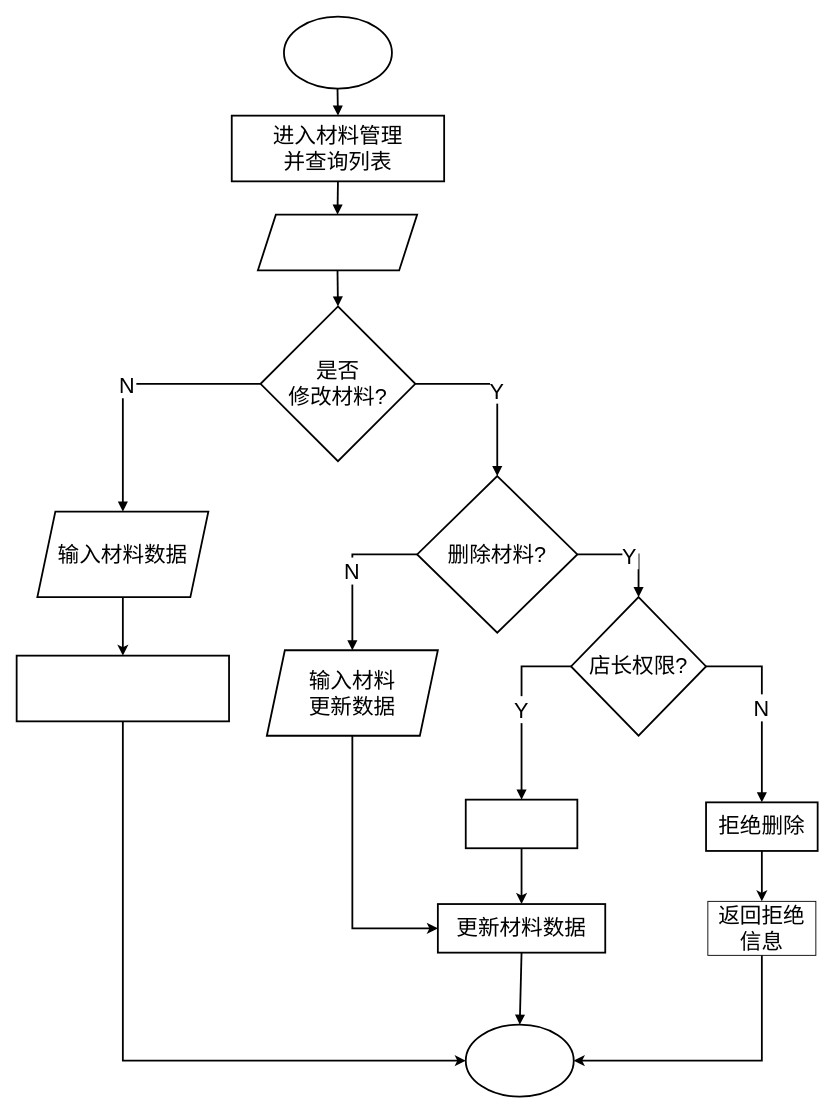
Some shapes in this 833 by 1112 pixel diagram are drawn without their labels. The centre of each missing label's shape, as x and y in pixels:
删除材料: (x=521, y=823)
开始: (x=337, y=52)
添加材料数据: (x=122, y=688)
结束: (x=519, y=1060)
输入材料 维护操作: (x=337, y=242)
